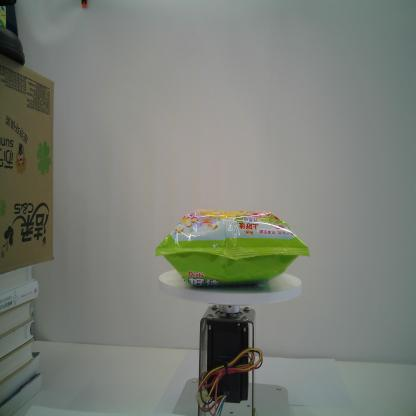Puffed Food: (154, 208, 312, 288)
